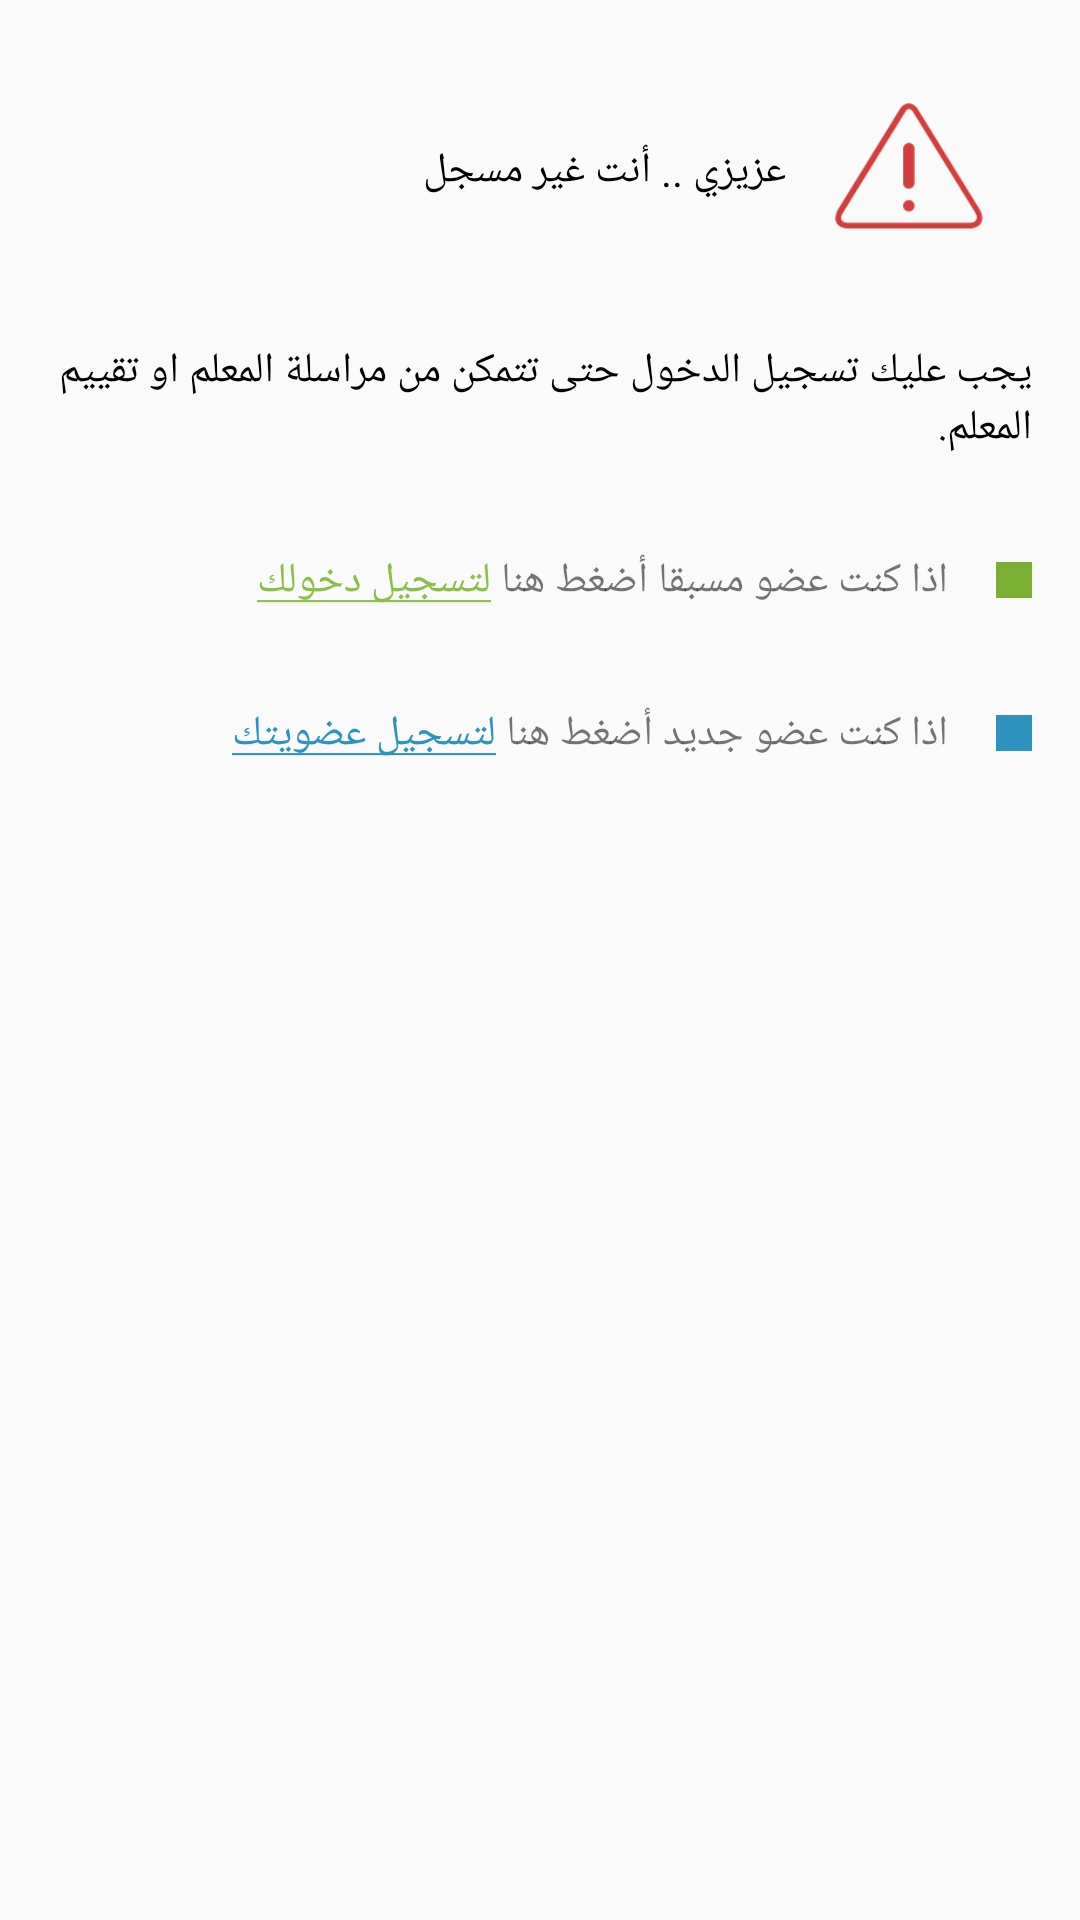

Screen size 1080*1920. Icon name, then its center in pixels as [x,y]:
att: [909,166]
